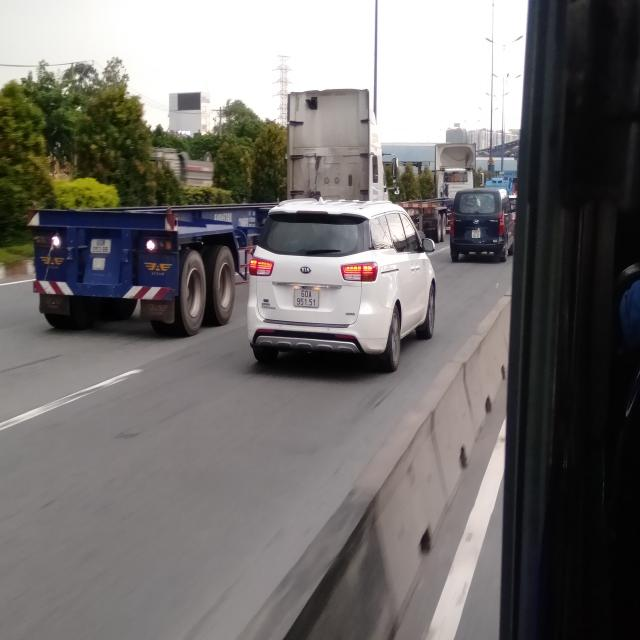bien_trang: (290, 284, 322, 308)
